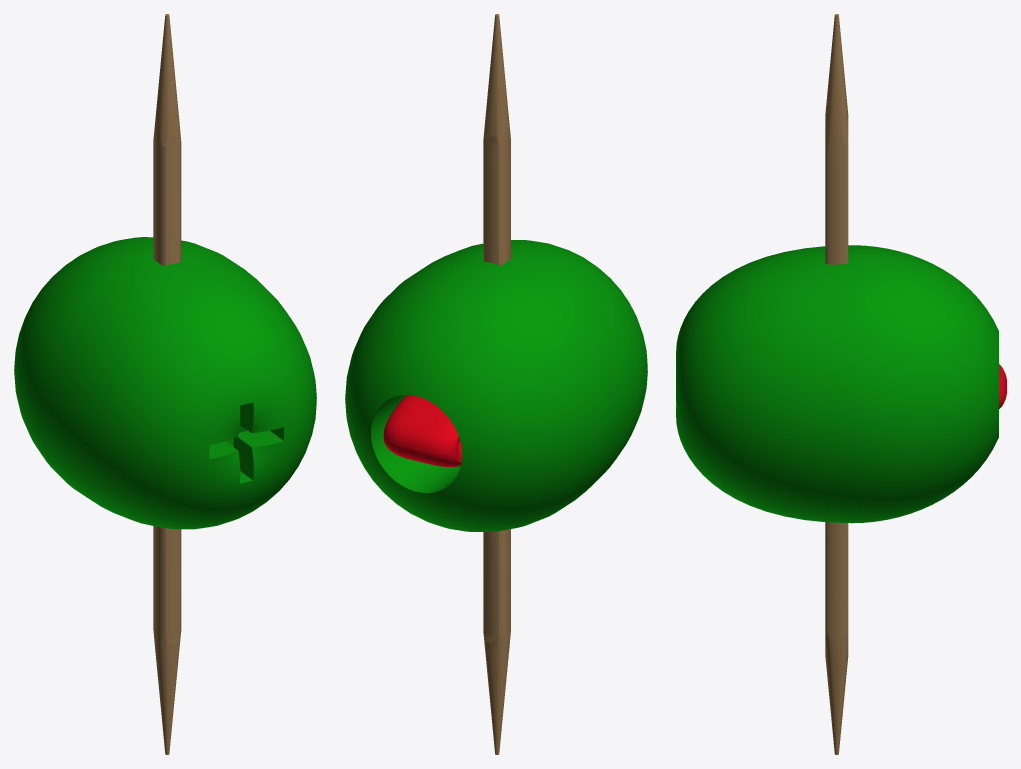
Rendered from olive3 - pick only.dae.
3 views of the same model, side by side, from view 1: azimuth 30°, elevation 25°; view 2: azimuth 150°, elevation 25°; view 3: azimuth 270°, elevation 25° (orthographic).
Parts seen in each view (by area): view 1: group_0, group_1; view 2: group_0, group_1, group_2; view 3: group_0, group_1.
Part boxes in pixels (x1,y1,x2,y2): group_0: [14, 237, 316, 529]; group_1: [153, 14, 181, 754]; group_0: [345, 240, 647, 531]; group_1: [483, 14, 510, 754]; group_2: [383, 395, 462, 466]; group_0: [676, 245, 998, 523]; group_1: [825, 14, 848, 754].
Bounding box in the file's own units: 2.69 × 3.19 × 7.87.
